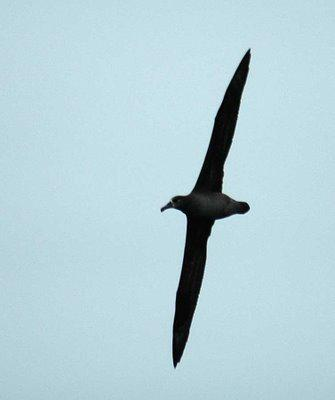001.Black_footed_Albatross: (157, 50, 256, 370)
